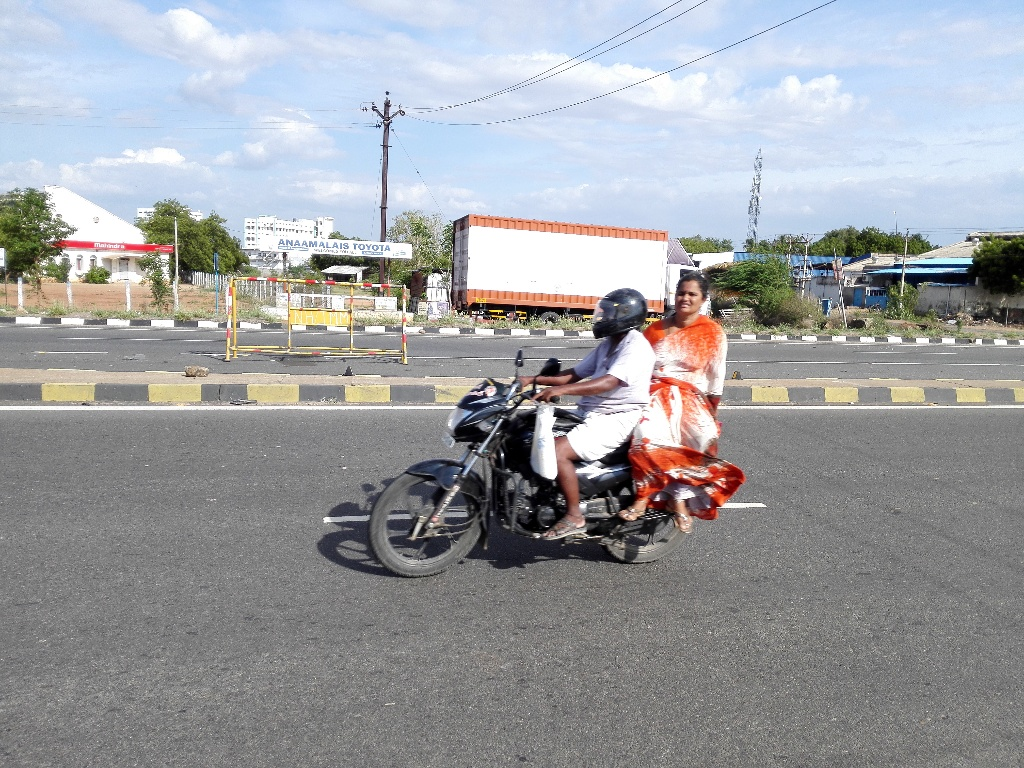biker: (354, 213, 756, 591)
helmet: (580, 275, 659, 346)
nohelmet: (665, 256, 715, 332)
